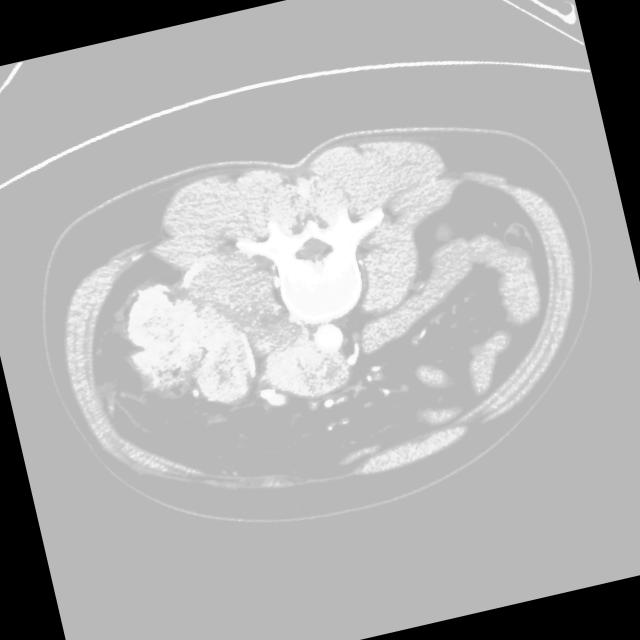TUMOR: (120, 138, 562, 496)
